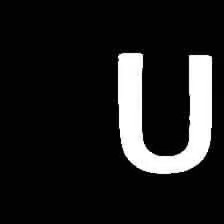LTR_U: (108, 42, 221, 182)
